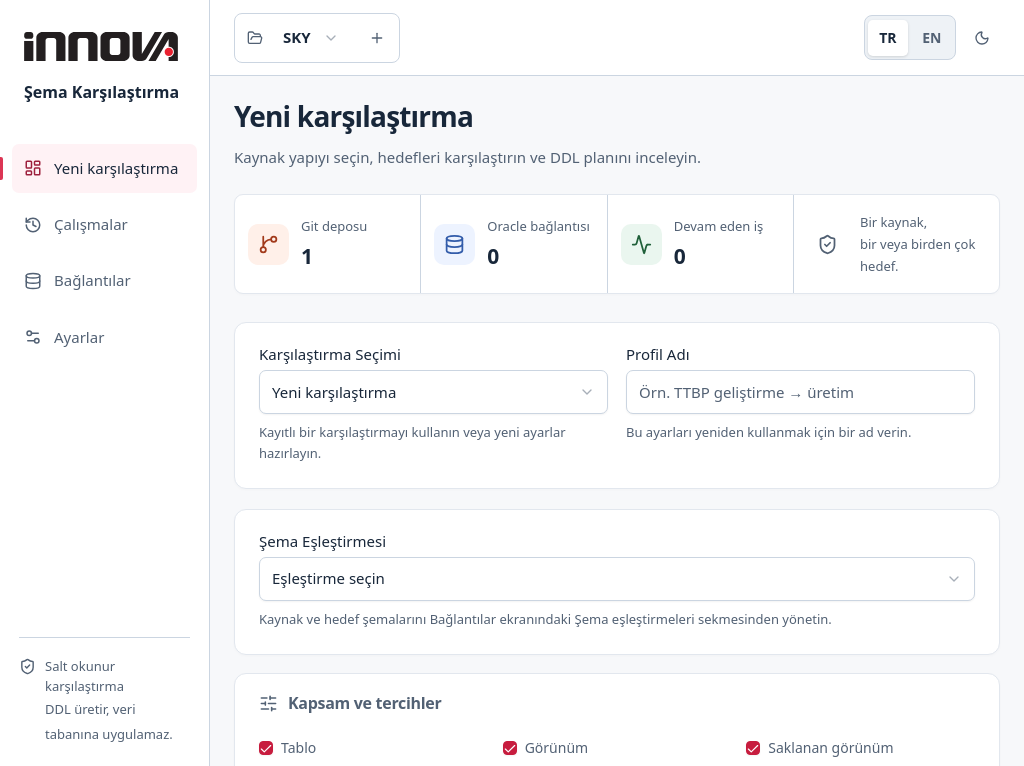
Test: updates an API error when the selected language changes
Expected: the button "Bağlantılar" is shown, 12,256 -> 197,306
What coordinates should you click on to do the following:
click the button with aria-label "English"
I would click on:
 (932, 38)
Its box is 912,20 -> 952,56.
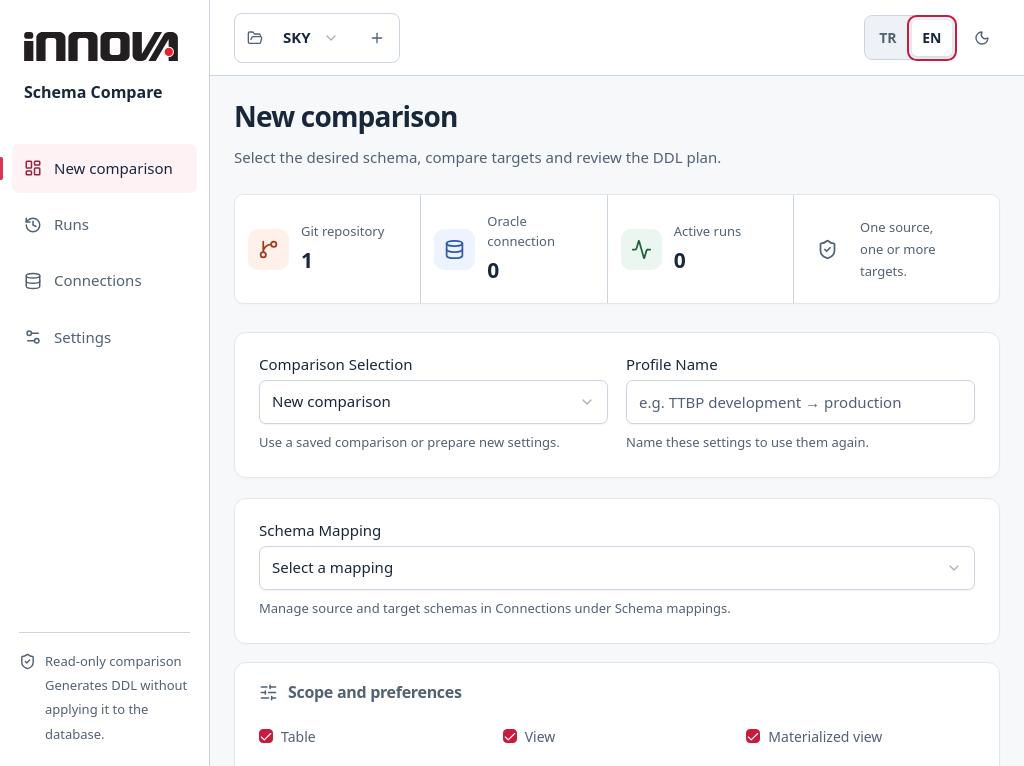
What coordinates should you click on to do the following:
click the button "Connections"
I would click on:
 (104, 281)
Its box is 12,256 -> 197,306.
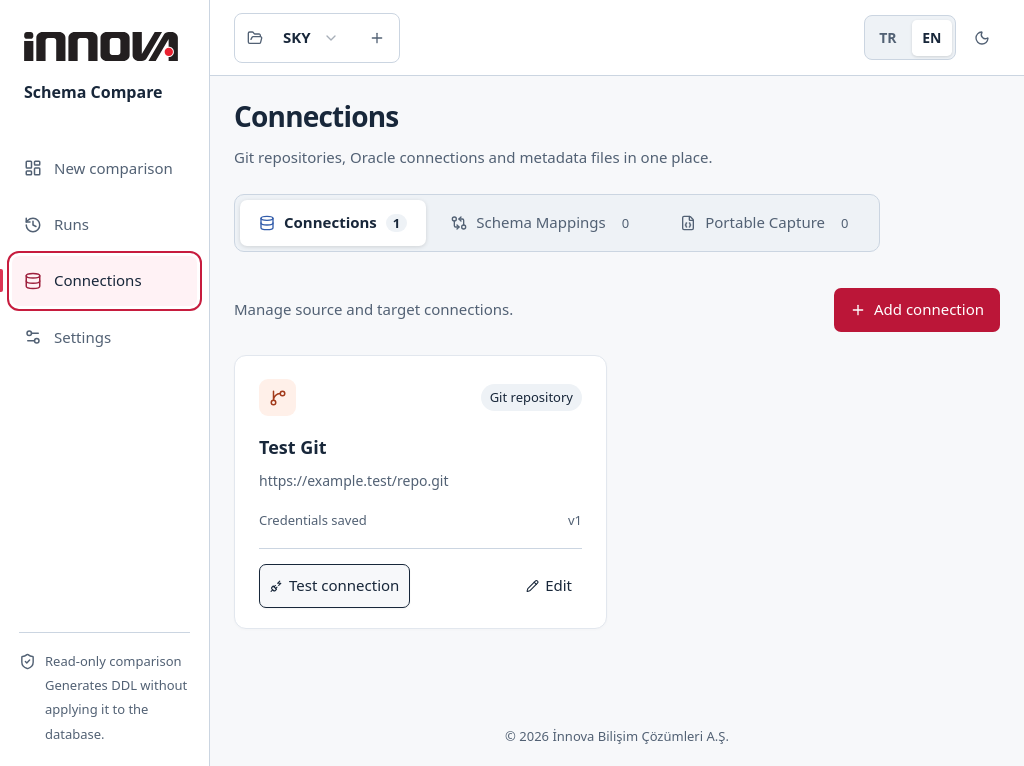
What coordinates should you click on to do the following:
click the button "Test connection"
I would click on:
 (335, 586)
Its box is 259,564 -> 410,608.
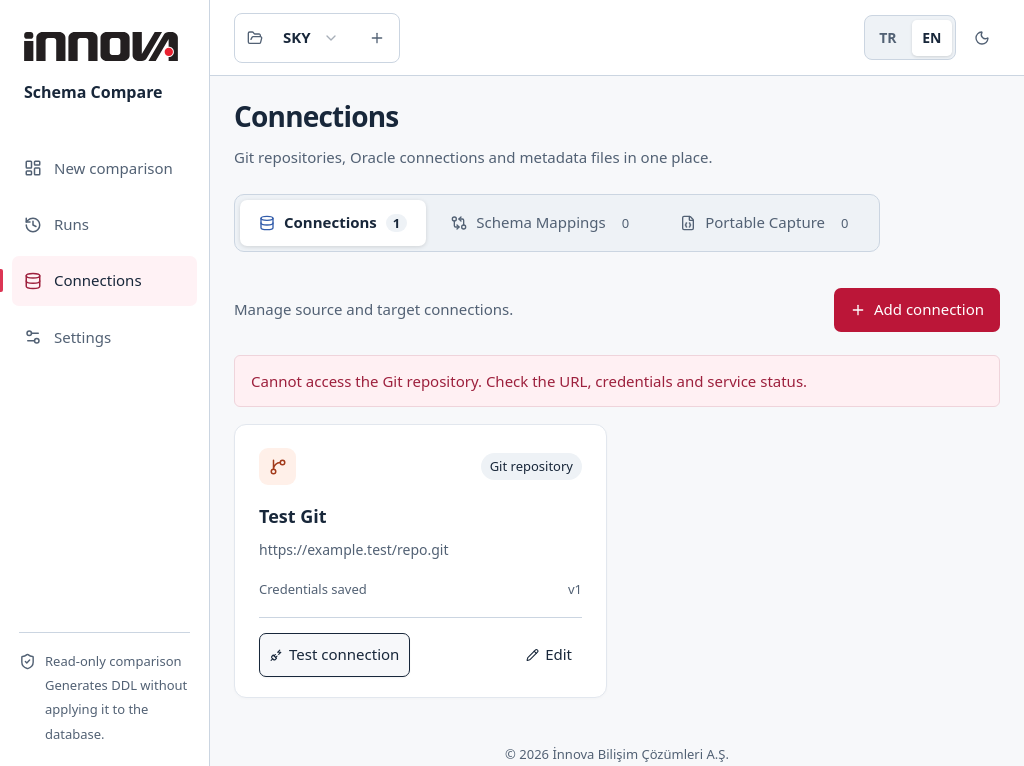
Expected: the message shows "Cannot access the Git repository", 251,371 -> 807,391
What coordinates should you click on to do the following:
click the button with aria-label "Türkçe"
I would click on:
 (888, 38)
Its box is 868,20 -> 908,56.
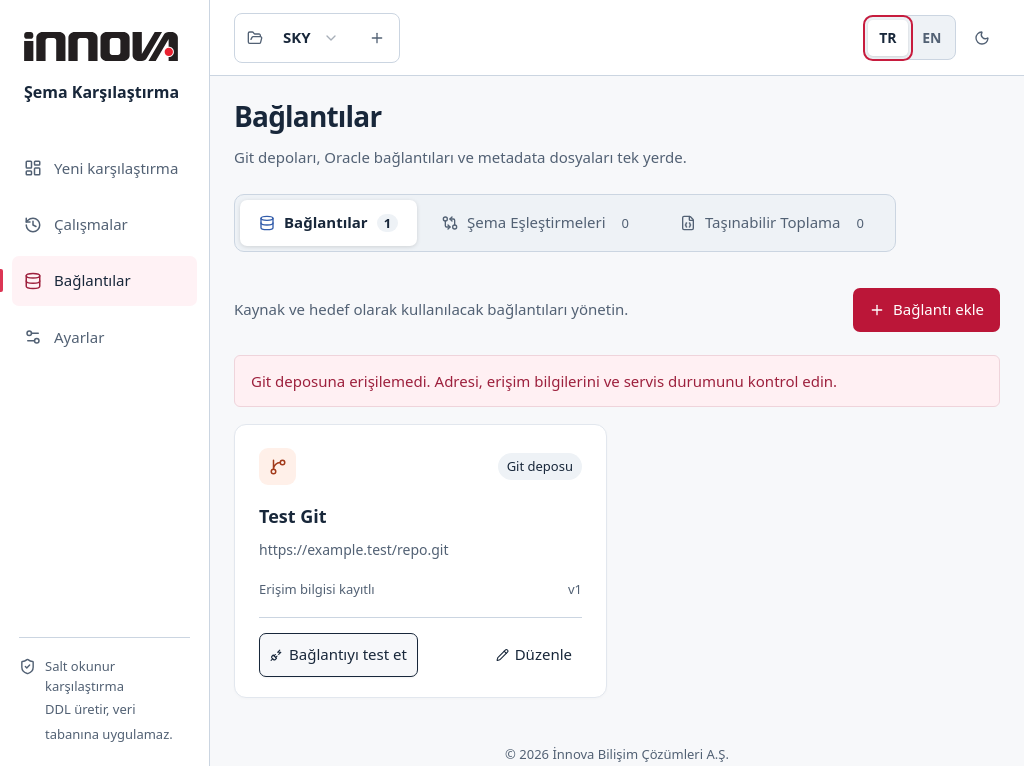
Expected: the message shows "Git deposuna erişilemedi", 251,371 -> 837,391
